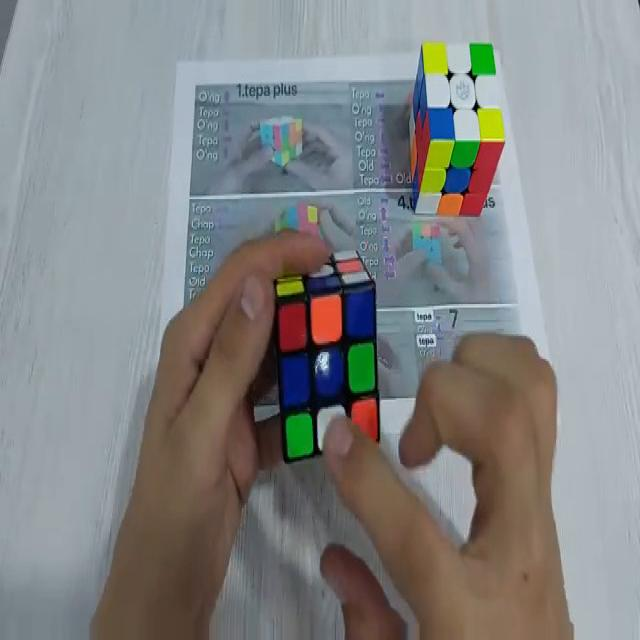Rub: (272, 246, 381, 462), (409, 40, 507, 216)
